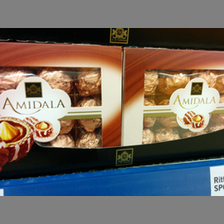chocolate: (1, 41, 124, 149), (122, 46, 224, 147)
